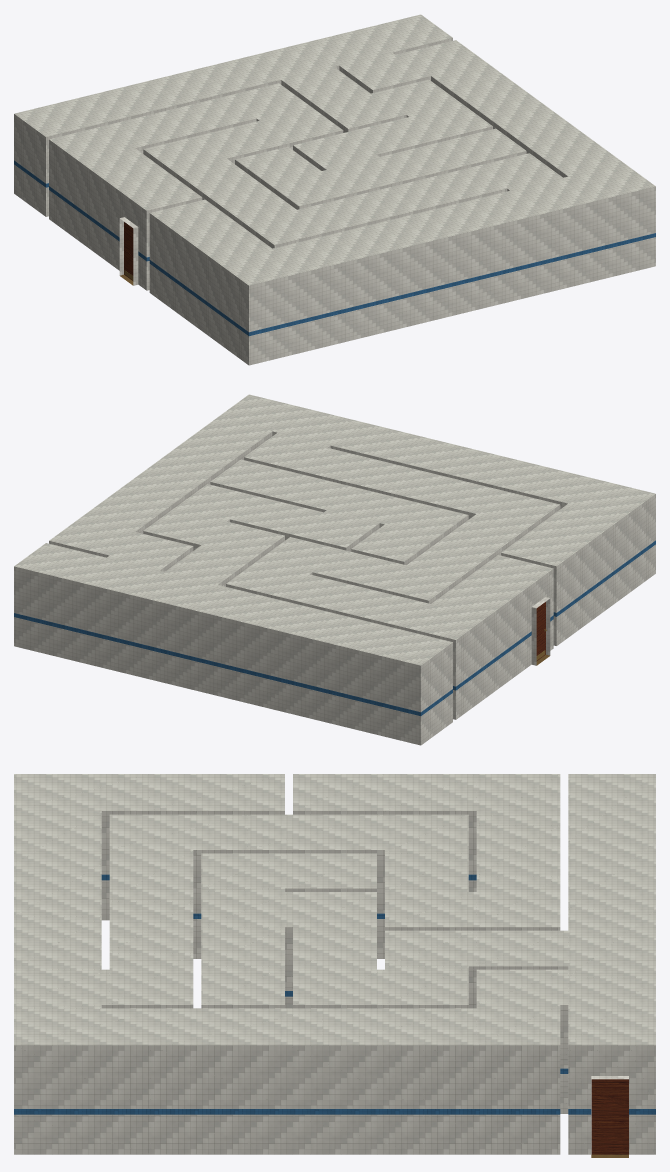
Rendered from maze_02.glb.
3 views of the same model, one above another, from view 1: azimuth 30°, elevation 25°; view 2: azimuth 150°, elevation 25°; view 3: azimuth 270°, elevation 25° (orthographic). The views are drawn at different scales.
Parts seen in each view (by area): view 1: Skin_Tile_Ceiling.001, Skin_Tile_Wall.001, Skin_Tile_Band.001, DoorLeaf_entry; view 2: Skin_Tile_Ceiling.001, Skin_Tile_Wall.001, Skin_Tile_Band.001, DoorLeaf_entry; view 3: Skin_Tile_Ceiling.001, Skin_Tile_Wall.001, Skin_Tile_Band.001, DoorLeaf_way_on.
Boxes of the visible parts, left/top/right/bottom form: Skin_Tile_Ceiling.001: left=14, top=14, right=655, bottom=285; Skin_Tile_Wall.001: left=14, top=38, right=655, bottom=365; Skin_Tile_Band.001: left=14, top=160, right=655, bottom=336; DoorLeaf_entry: left=124, top=222, right=133, bottom=280; Skin_Tile_Ceiling.001: left=14, top=394, right=655, bottom=665; Skin_Tile_Wall.001: left=14, top=431, right=655, bottom=745; Skin_Tile_Band.001: left=14, top=540, right=655, bottom=716; DoorLeaf_entry: left=536, top=602, right=546, bottom=660; Skin_Tile_Ceiling.001: left=14, top=774, right=655, bottom=1045; Skin_Tile_Wall.001: left=14, top=811, right=655, bottom=1154; Skin_Tile_Band.001: left=14, top=874, right=655, bottom=1114; DoorLeaf_way_on: left=591, top=1079, right=628, bottom=1154.
Bounding box in the file's own units: 16.4 × 3 × 16.
16 materials, 11 textured.
